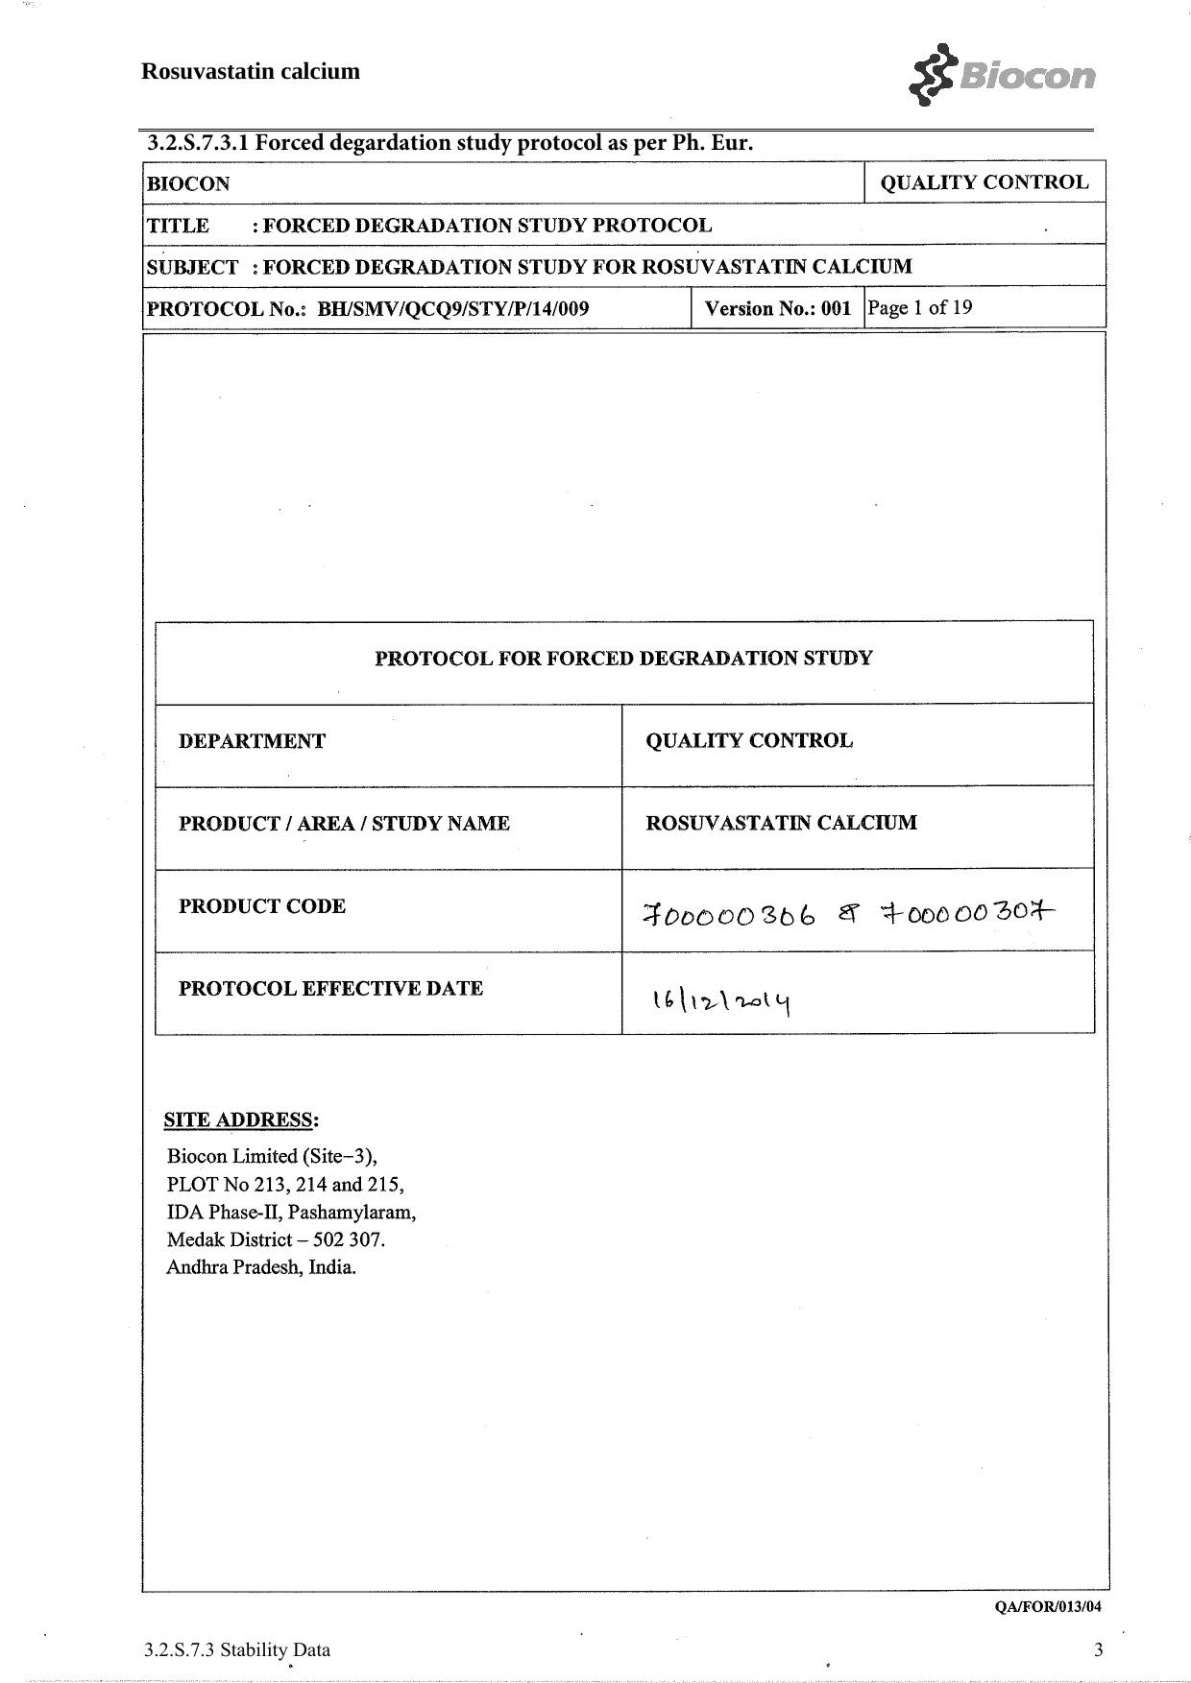merged_cells: (152, 620, 1096, 1034), (140, 159, 1109, 329)
